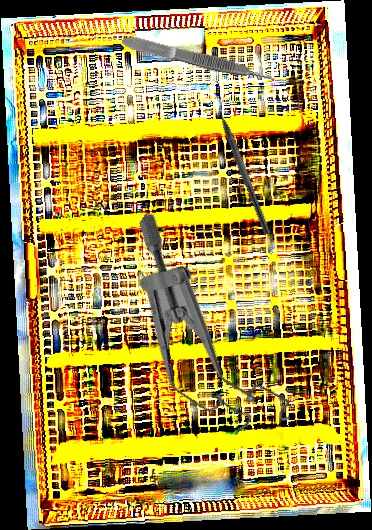Chopper: (210, 95, 280, 235)
Speculum: (69, 208, 343, 459)
Tissue Forceps: (120, 31, 277, 89)
